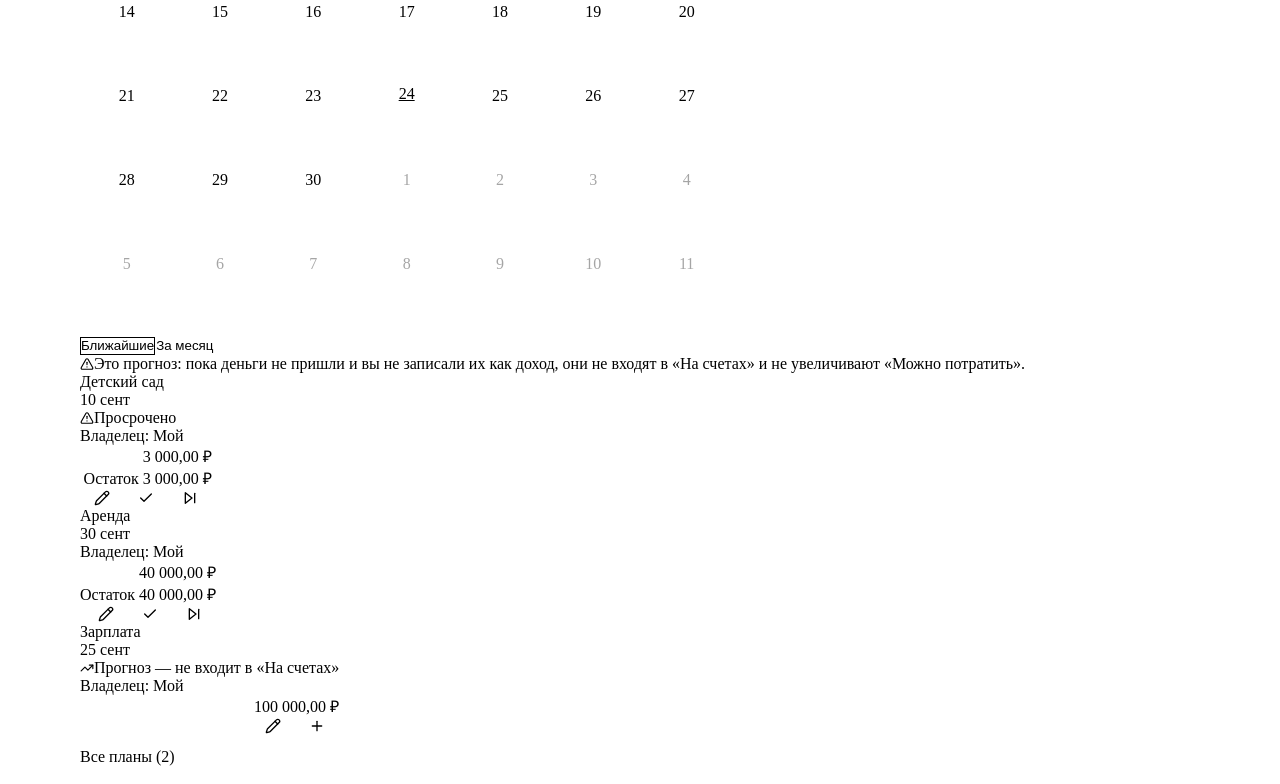
Scenario: plans page › plan edit › closes, rereads lists, announces the count and focuses the list on success
(page scrolled)
Click the button with test id "obligation-edit-occ-rent" at (106, 614), box [84, 605, 128, 623]
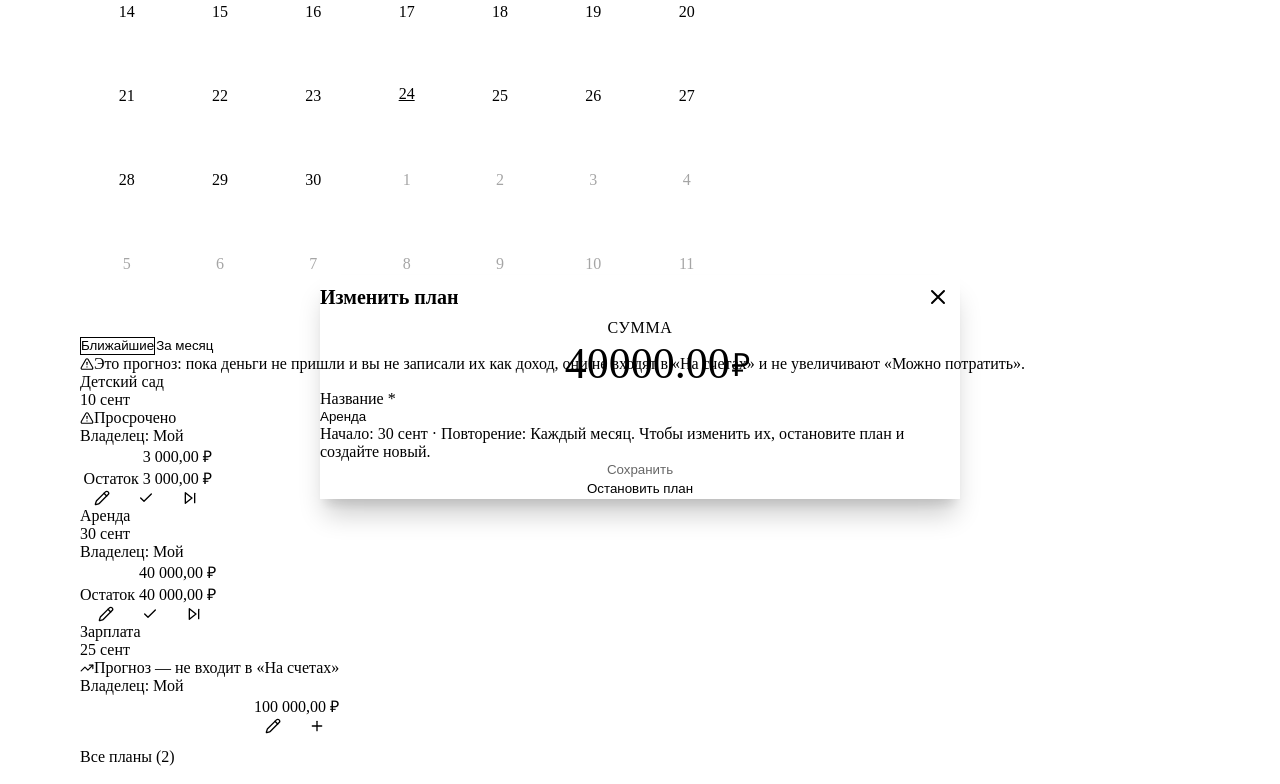
Replace the text in the field with id "operation-amount-input" with "50000" at (631, 364), box [530, 337, 732, 390]
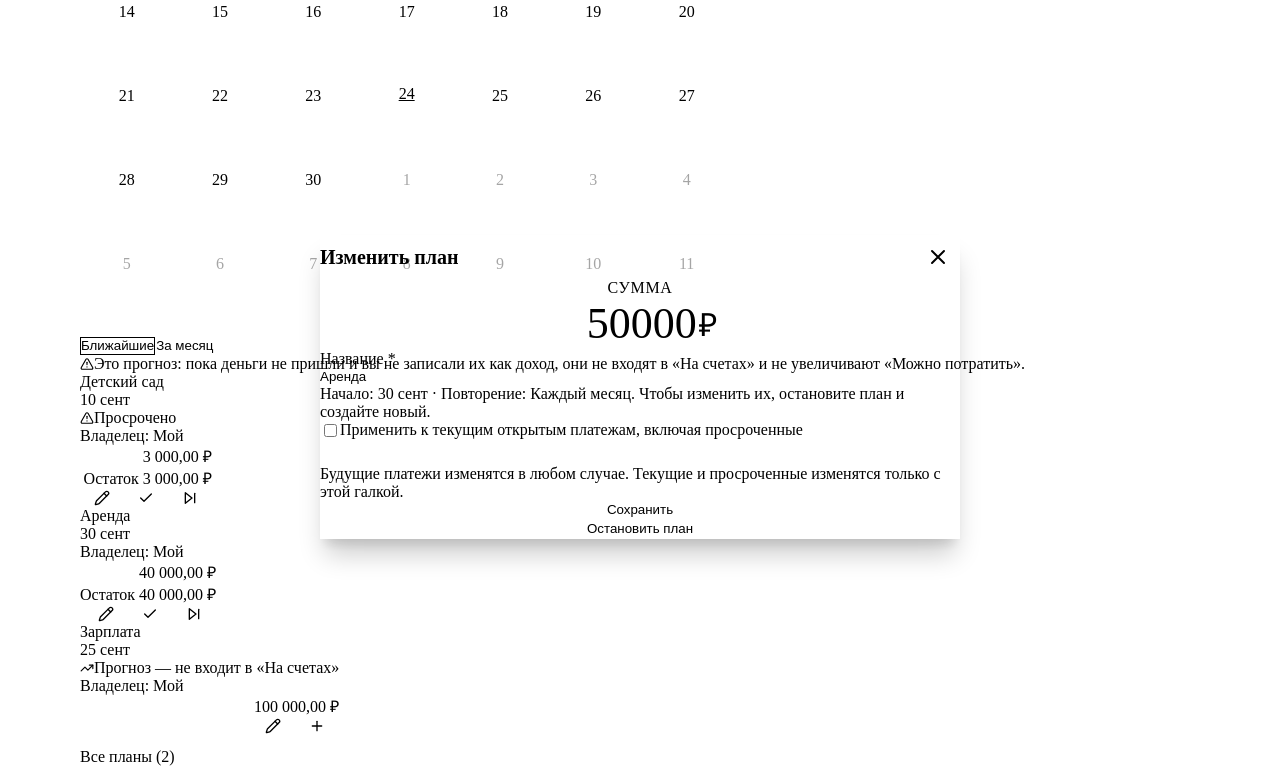
Click the button with test id "plan-edit-submit" at (640, 511), box [320, 501, 960, 520]
(page scrolled)
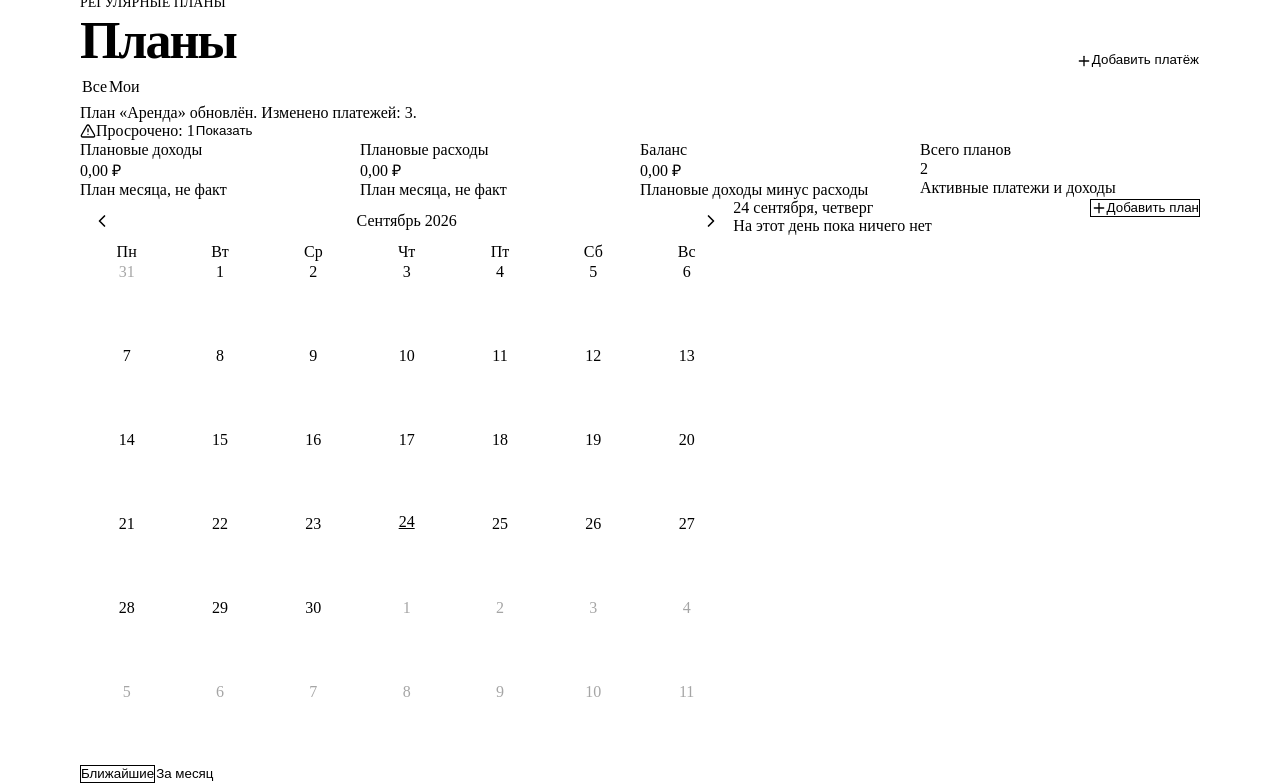
Check: the message "План «Аренда» обновлён. Изменено платежей: 3." is shown, box [80, 104, 417, 121]
